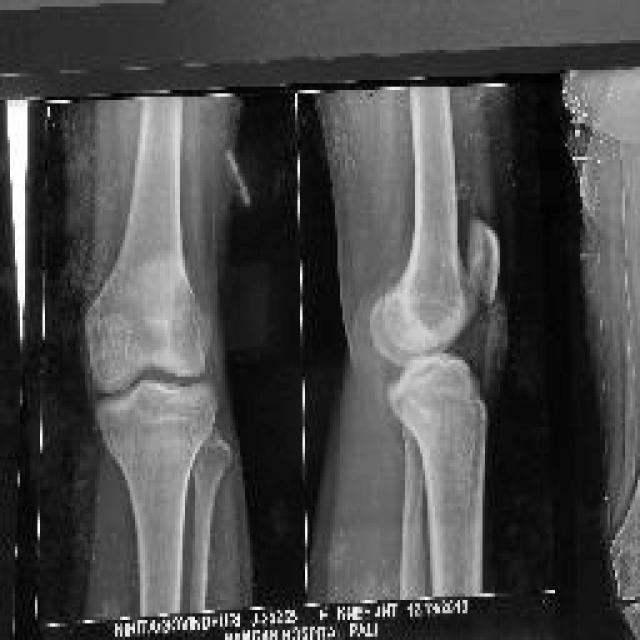bone-cancer: (404, 242, 464, 337)
